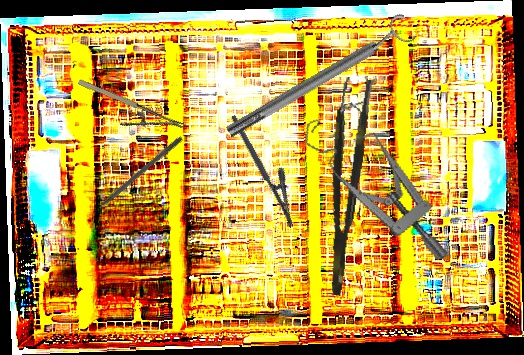Fixation Ring: (219, 11, 419, 146)
Needle Holder: (230, 106, 310, 229), (69, 75, 187, 151)
Pusher: (83, 134, 184, 221)
Speculum: (298, 87, 450, 288)
Tissue Forceps: (311, 75, 375, 297)
